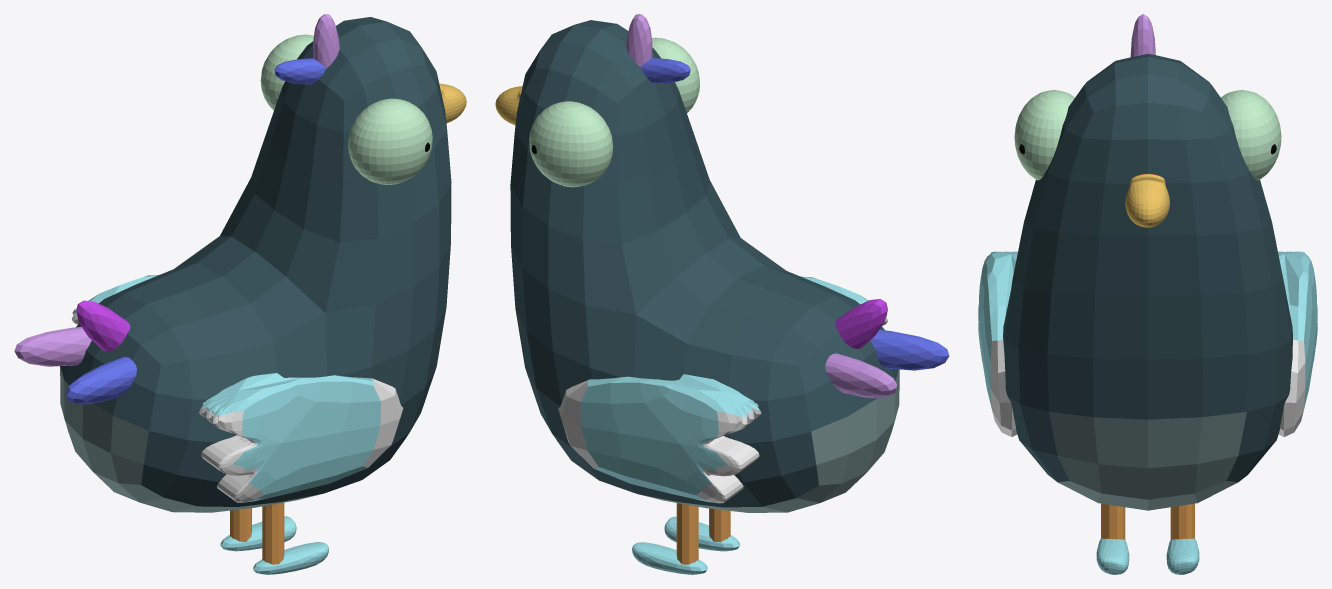
File: Doves.fbx
3 renders of one model, left to right at view 1: azimuth 30°, elevation 25°; view 2: azimuth 150°, elevation 25°; view 3: azimuth 270°, elevation 25°, orthographic. The views are drawn at different scales.
Parts seen in each view (by area): view 1: Cube, Cube.008, Sphere, Cube.002, Cube.003, Cube.001, Cube.018, Cube.005, Cube.004, Cube.006, Cube.007; view 2: Cube, Cube.008, Sphere, Cube.003, Cube.002, Cube.001, Cube.007, Cube.005, Cube.004, Cube.006, Cube.018; view 3: Cube, Cube.008, Sphere, Cube.006, Cube.007, Cube.018, Cube.005.
Part boxes in pixels (x1,y1,x2,y2): Cube: (60,17,451,512); Cube.008: (72,274,403,574); Sphere: (260,34,432,184); Cube.002: (14,327,91,366); Cube.003: (65,356,136,404); Cube.001: (76,300,130,351); Cube.018: (262,502,284,564); Cube.005: (313,14,339,68); Cube.004: (274,58,326,84); Cube.006: (439,83,466,123); Cube.007: (230,508,251,541); Cube: (510,20,899,512); Cube.008: (558,276,887,574); Sphere: (529,37,699,187); Cube.003: (870,329,949,370); Cube.002: (825,353,896,398); Cube.001: (835,299,887,348); Cube.007: (676,503,698,564); Cube.005: (626,14,652,66); Cube.004: (640,58,690,84); Cube.006: (495,86,522,125); Cube.018: (709,508,730,541); Cube: (1003,54,1292,510); Cube.008: (978,251,1317,574); Sphere: (1014,90,1281,180); Cube.006: (1125,173,1169,227); Cube.007: (1170,503,1194,539); Cube.018: (1101,503,1125,539); Cube.005: (1130,14,1155,57).
Bounding box in the file's own units: 338 × 404 × 216.
